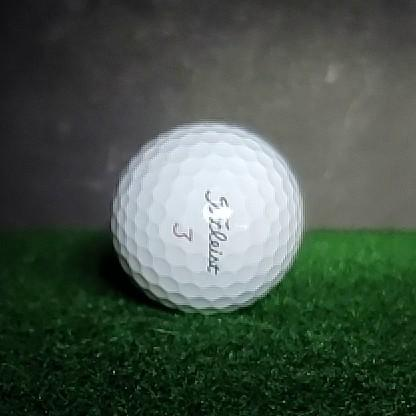golfball: (110, 122, 304, 316)
